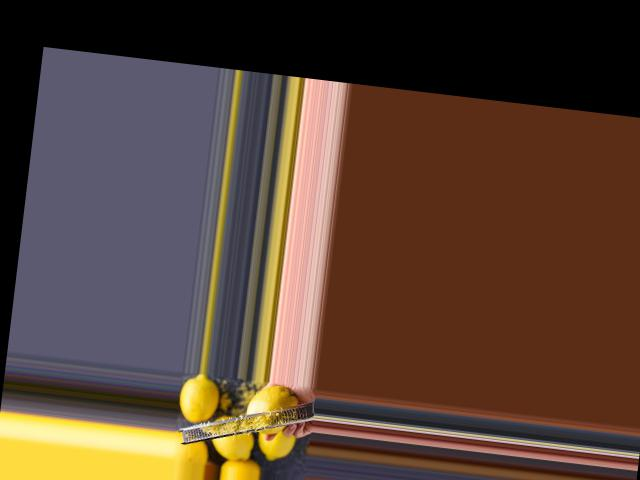lemon: (178, 373, 228, 425)
